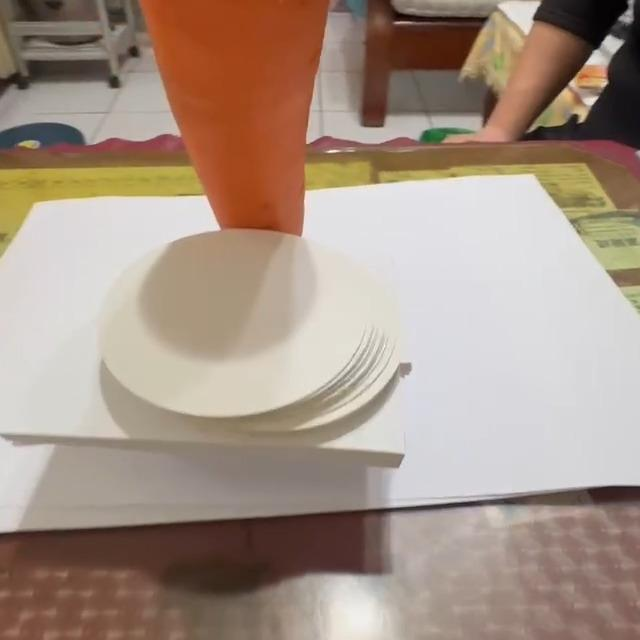carrot: (131, 1, 341, 236)
